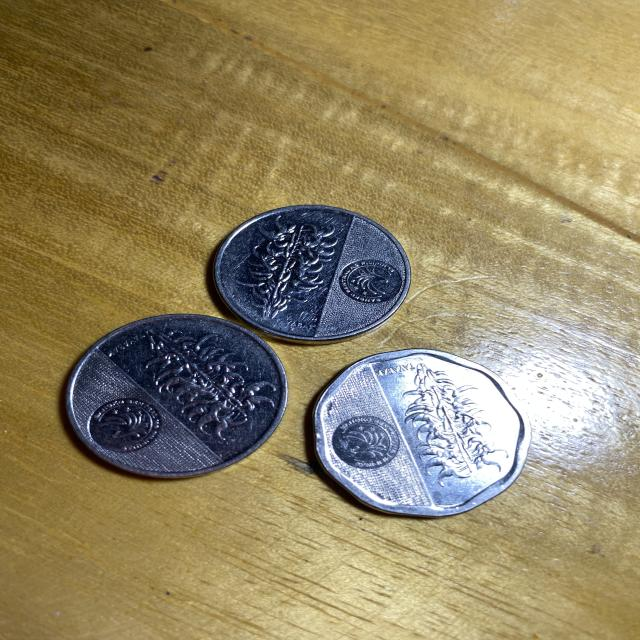5_New_Back: (132, 328, 274, 426), (396, 366, 505, 478), (240, 210, 334, 316)
